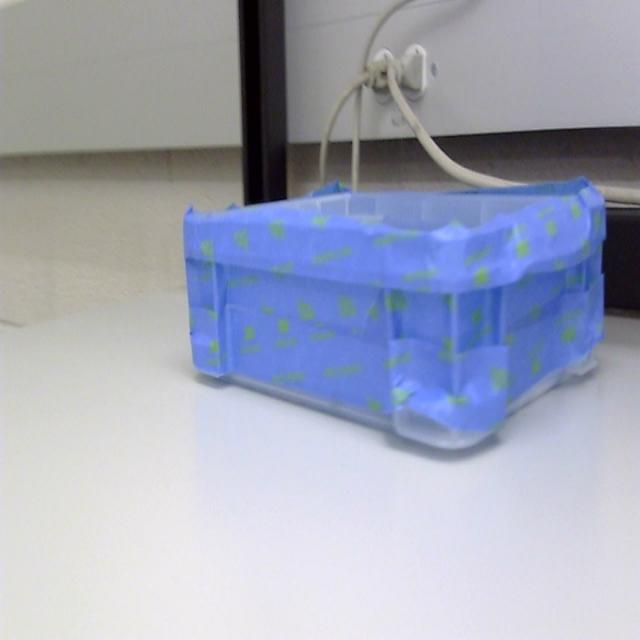bucket: (182, 177, 608, 456)
